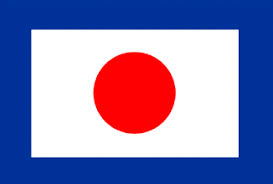Japanese Flag: (30, 27, 245, 162)
